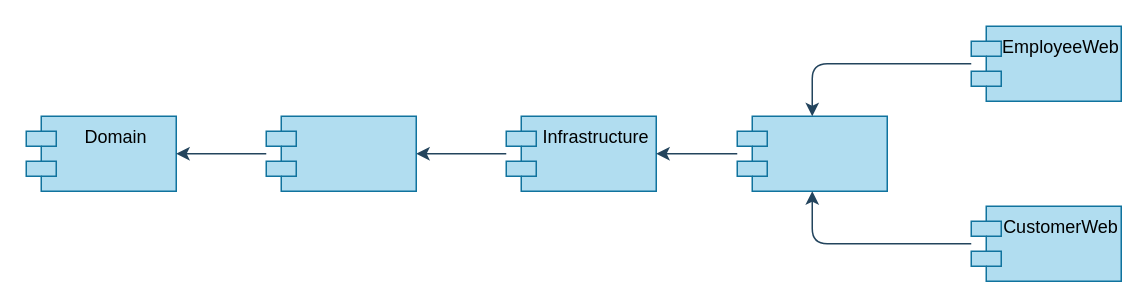
The diagram is 1148 pixels wide and 308 high, and some of its shapes have lost their labels. Here are the shapes that lost their labels. From the top down, the centre of each, then its label:
At point (340, 153): "Application".
At point (811, 153): "LibWeb".
